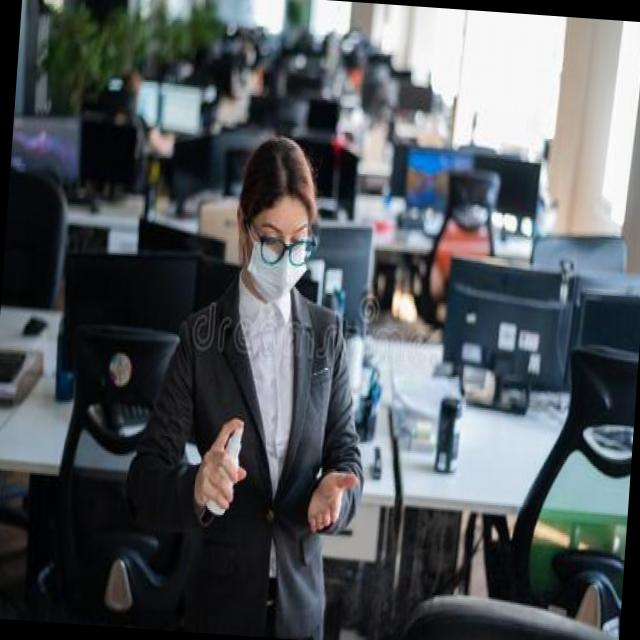sanitizer: (213, 420, 242, 514)
